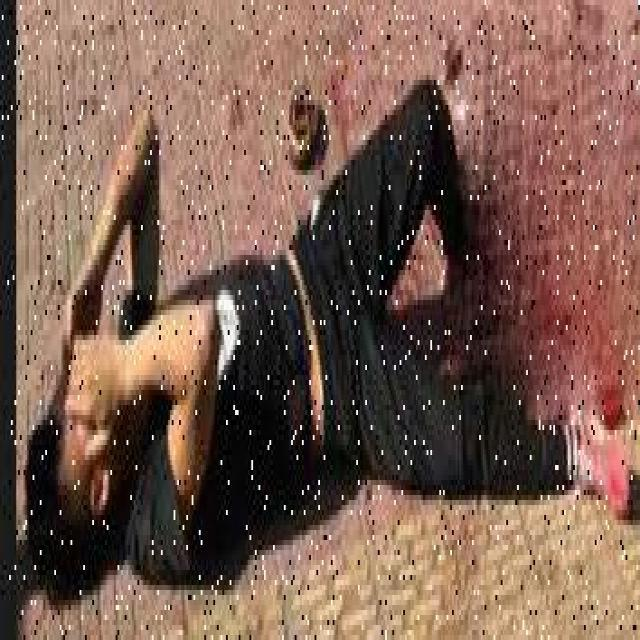fall: (27, 120, 629, 560)
